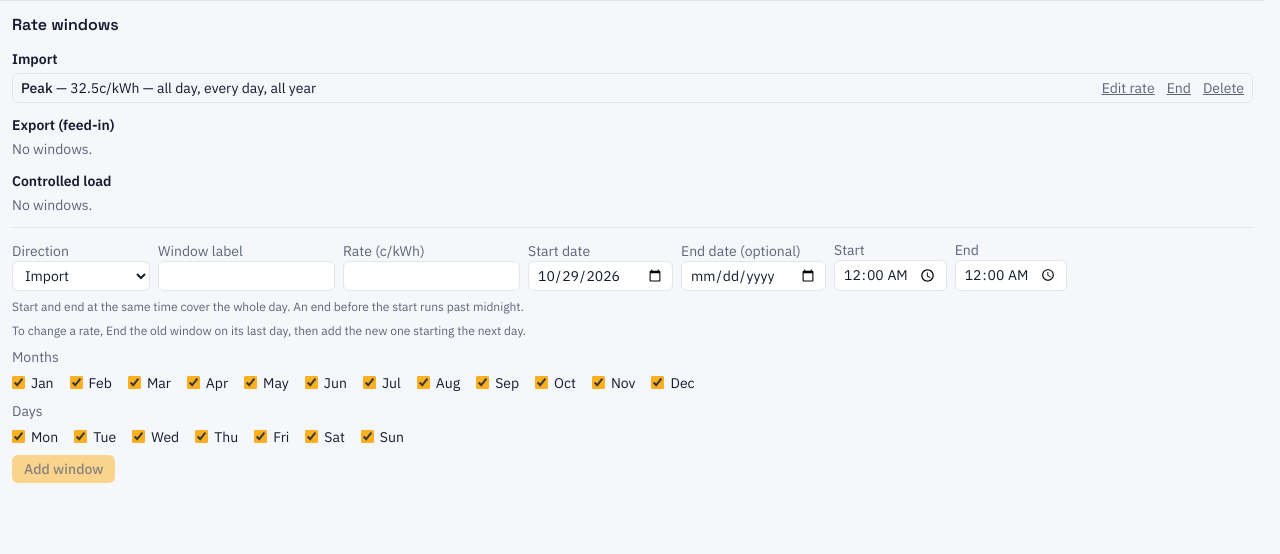
RateWindowsPanel › Edit rate › opens prefilled with the current rate
The width and height of the screenshot is (1280, 554).
What coordinates should you click on to do the following:
click the button with aria-label "Edit rate of Peak"
I would click on:
 (1128, 88)
Its box is x1=1102 y1=78 x2=1155 y2=98.
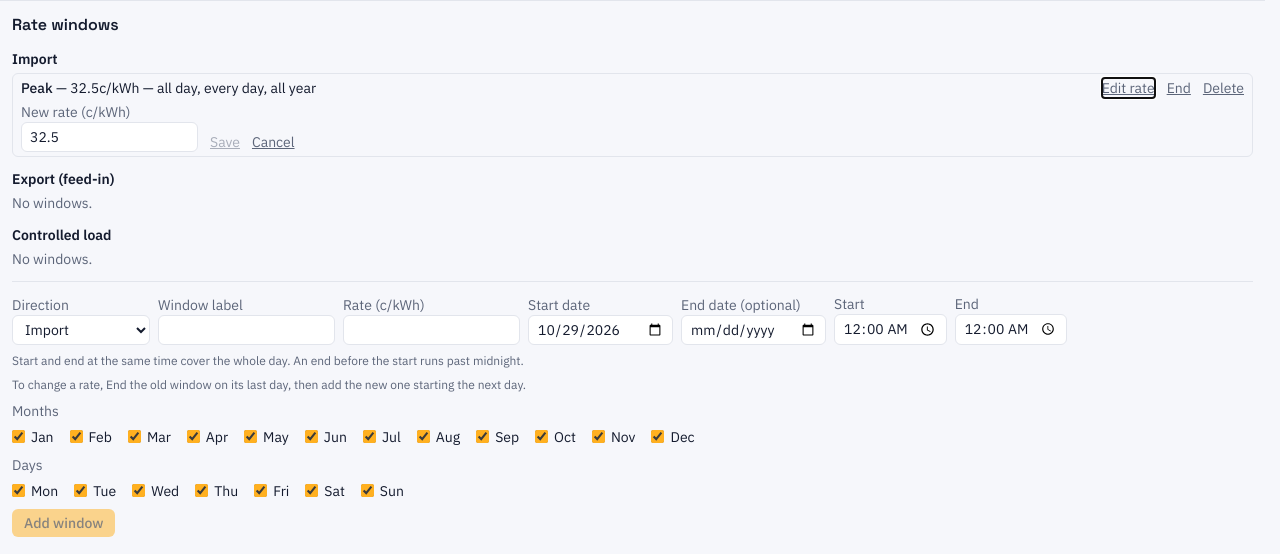
Result: the number field labelled "New rate (c/kWh)" holds "32.5" at x1=21 y1=122 x2=198 y2=152
